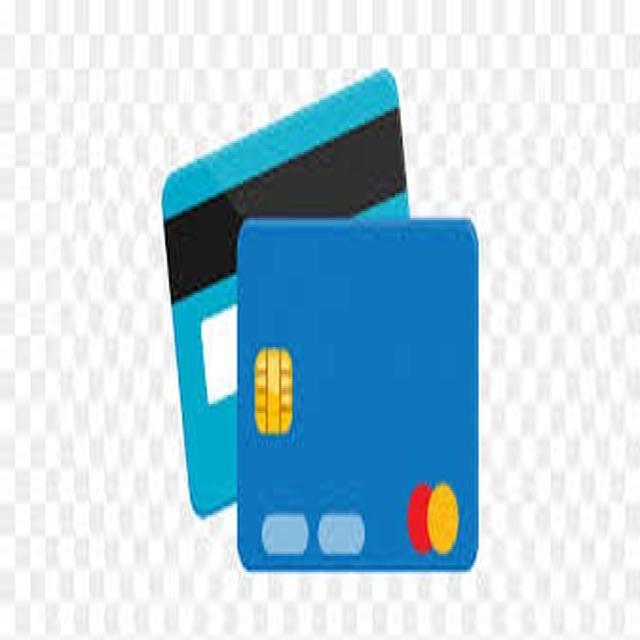card: (108, 121, 550, 584), (58, 73, 435, 528), (134, 218, 509, 600)
